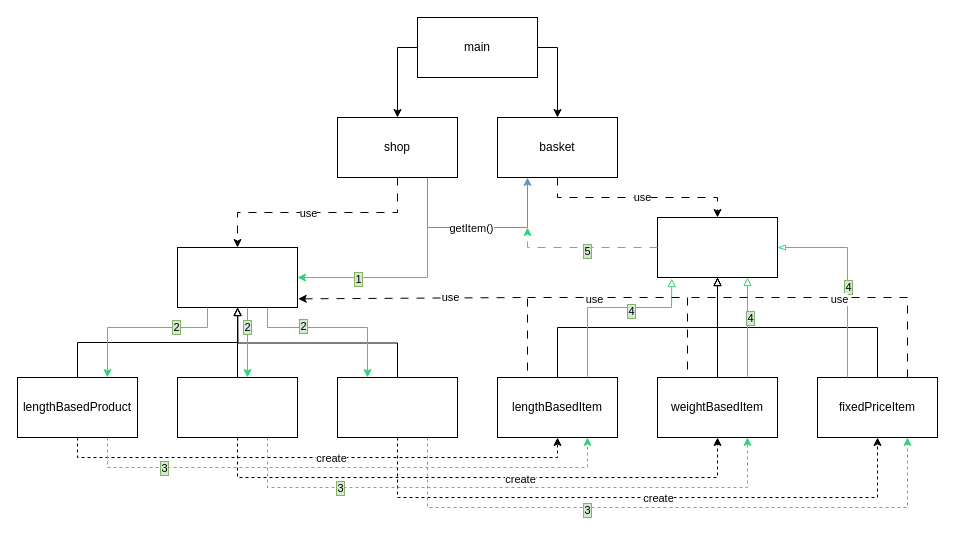
Some shapes in this 955 by 535 pixel diagram are drawn without their labels. The box of each missing label's shape, as (x1, y1, x2, y2) in pixels:
fixedPriceProduct: (336, 376, 458, 438)
item: (656, 216, 778, 278)
product: (176, 246, 298, 308)
weightBasedProduct: (176, 376, 298, 438)
